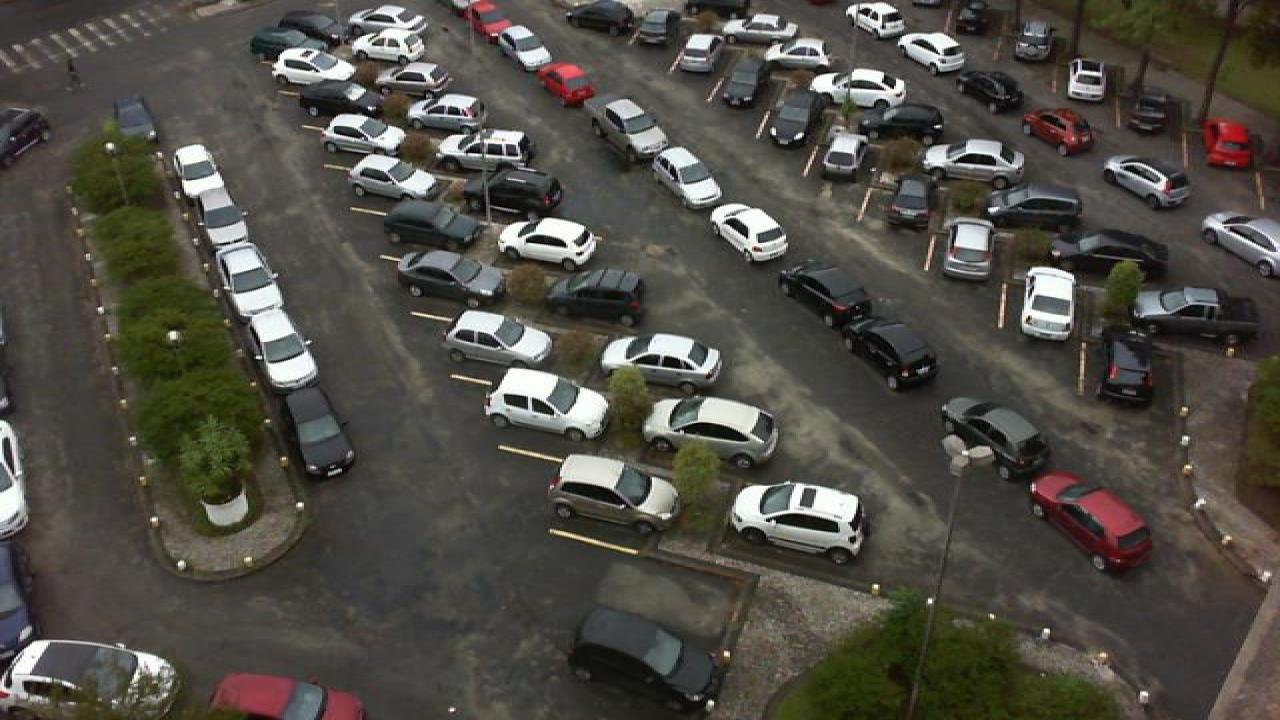Car: (568, 605, 722, 720), (0, 637, 180, 720), (1032, 472, 1154, 574), (730, 480, 872, 565), (546, 452, 684, 534), (642, 394, 782, 469), (940, 395, 1056, 484), (482, 369, 612, 441), (1128, 284, 1262, 346), (596, 332, 724, 396), (210, 670, 368, 720), (842, 316, 942, 392), (774, 258, 874, 330), (1050, 227, 1170, 286), (438, 309, 556, 368), (284, 387, 358, 480), (392, 250, 502, 308), (542, 267, 648, 325), (380, 200, 488, 255), (1198, 208, 1280, 280), (496, 217, 600, 273), (250, 310, 320, 390), (590, 96, 670, 166), (918, 137, 1028, 187), (706, 202, 790, 264), (346, 152, 442, 205), (1098, 155, 1192, 209), (648, 144, 724, 210), (468, 170, 562, 223), (1018, 266, 1082, 342), (806, 68, 910, 112), (224, 246, 290, 315), (984, 184, 1084, 228), (1094, 340, 1158, 408), (434, 130, 528, 176), (318, 112, 408, 160), (938, 216, 1002, 282), (1022, 107, 1100, 159), (170, 142, 234, 204), (268, 46, 356, 90), (850, 102, 946, 142), (294, 81, 386, 119), (764, 90, 818, 152), (952, 68, 1028, 112), (894, 31, 968, 76), (408, 93, 486, 135), (204, 189, 260, 247), (718, 53, 774, 111), (534, 60, 598, 109), (350, 28, 430, 66), (814, 132, 870, 185), (884, 177, 936, 233), (1200, 118, 1254, 171), (720, 11, 800, 45), (344, 4, 426, 36), (110, 96, 162, 145), (844, 0, 908, 39), (764, 37, 834, 72), (380, 60, 450, 94), (566, 0, 634, 35), (674, 31, 726, 76), (1130, 87, 1178, 134), (248, 28, 312, 62), (1064, 56, 1110, 103), (500, 30, 556, 68), (280, 8, 344, 40), (1012, 18, 1056, 64), (634, 6, 678, 50), (462, 0, 508, 36), (948, 0, 990, 37)
